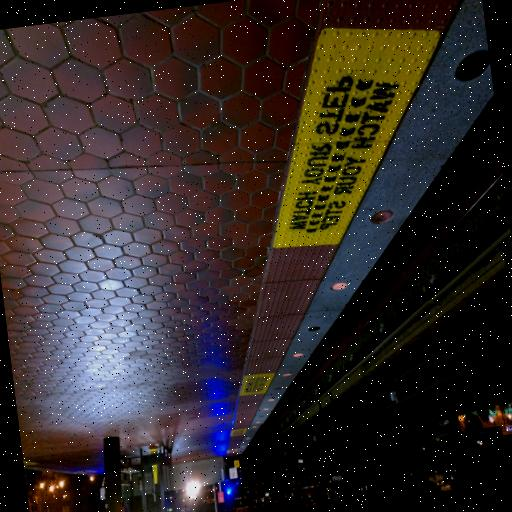platform_edge: (169, 0, 512, 441)
